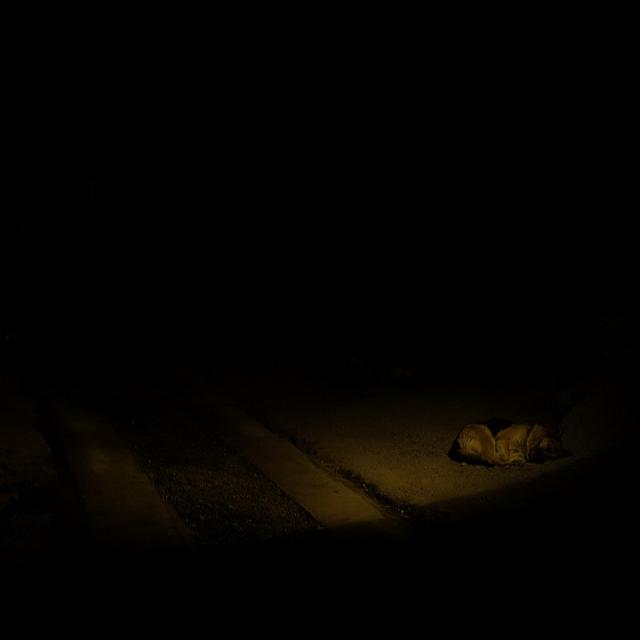Dog: (451, 403, 551, 492)
